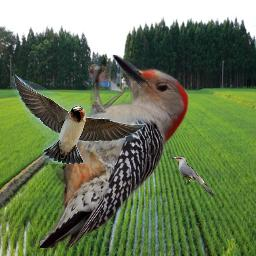Cuckoo: (169, 156, 216, 197)
Swallow: (12, 73, 145, 164)
Woodpecker: (40, 55, 189, 248)
